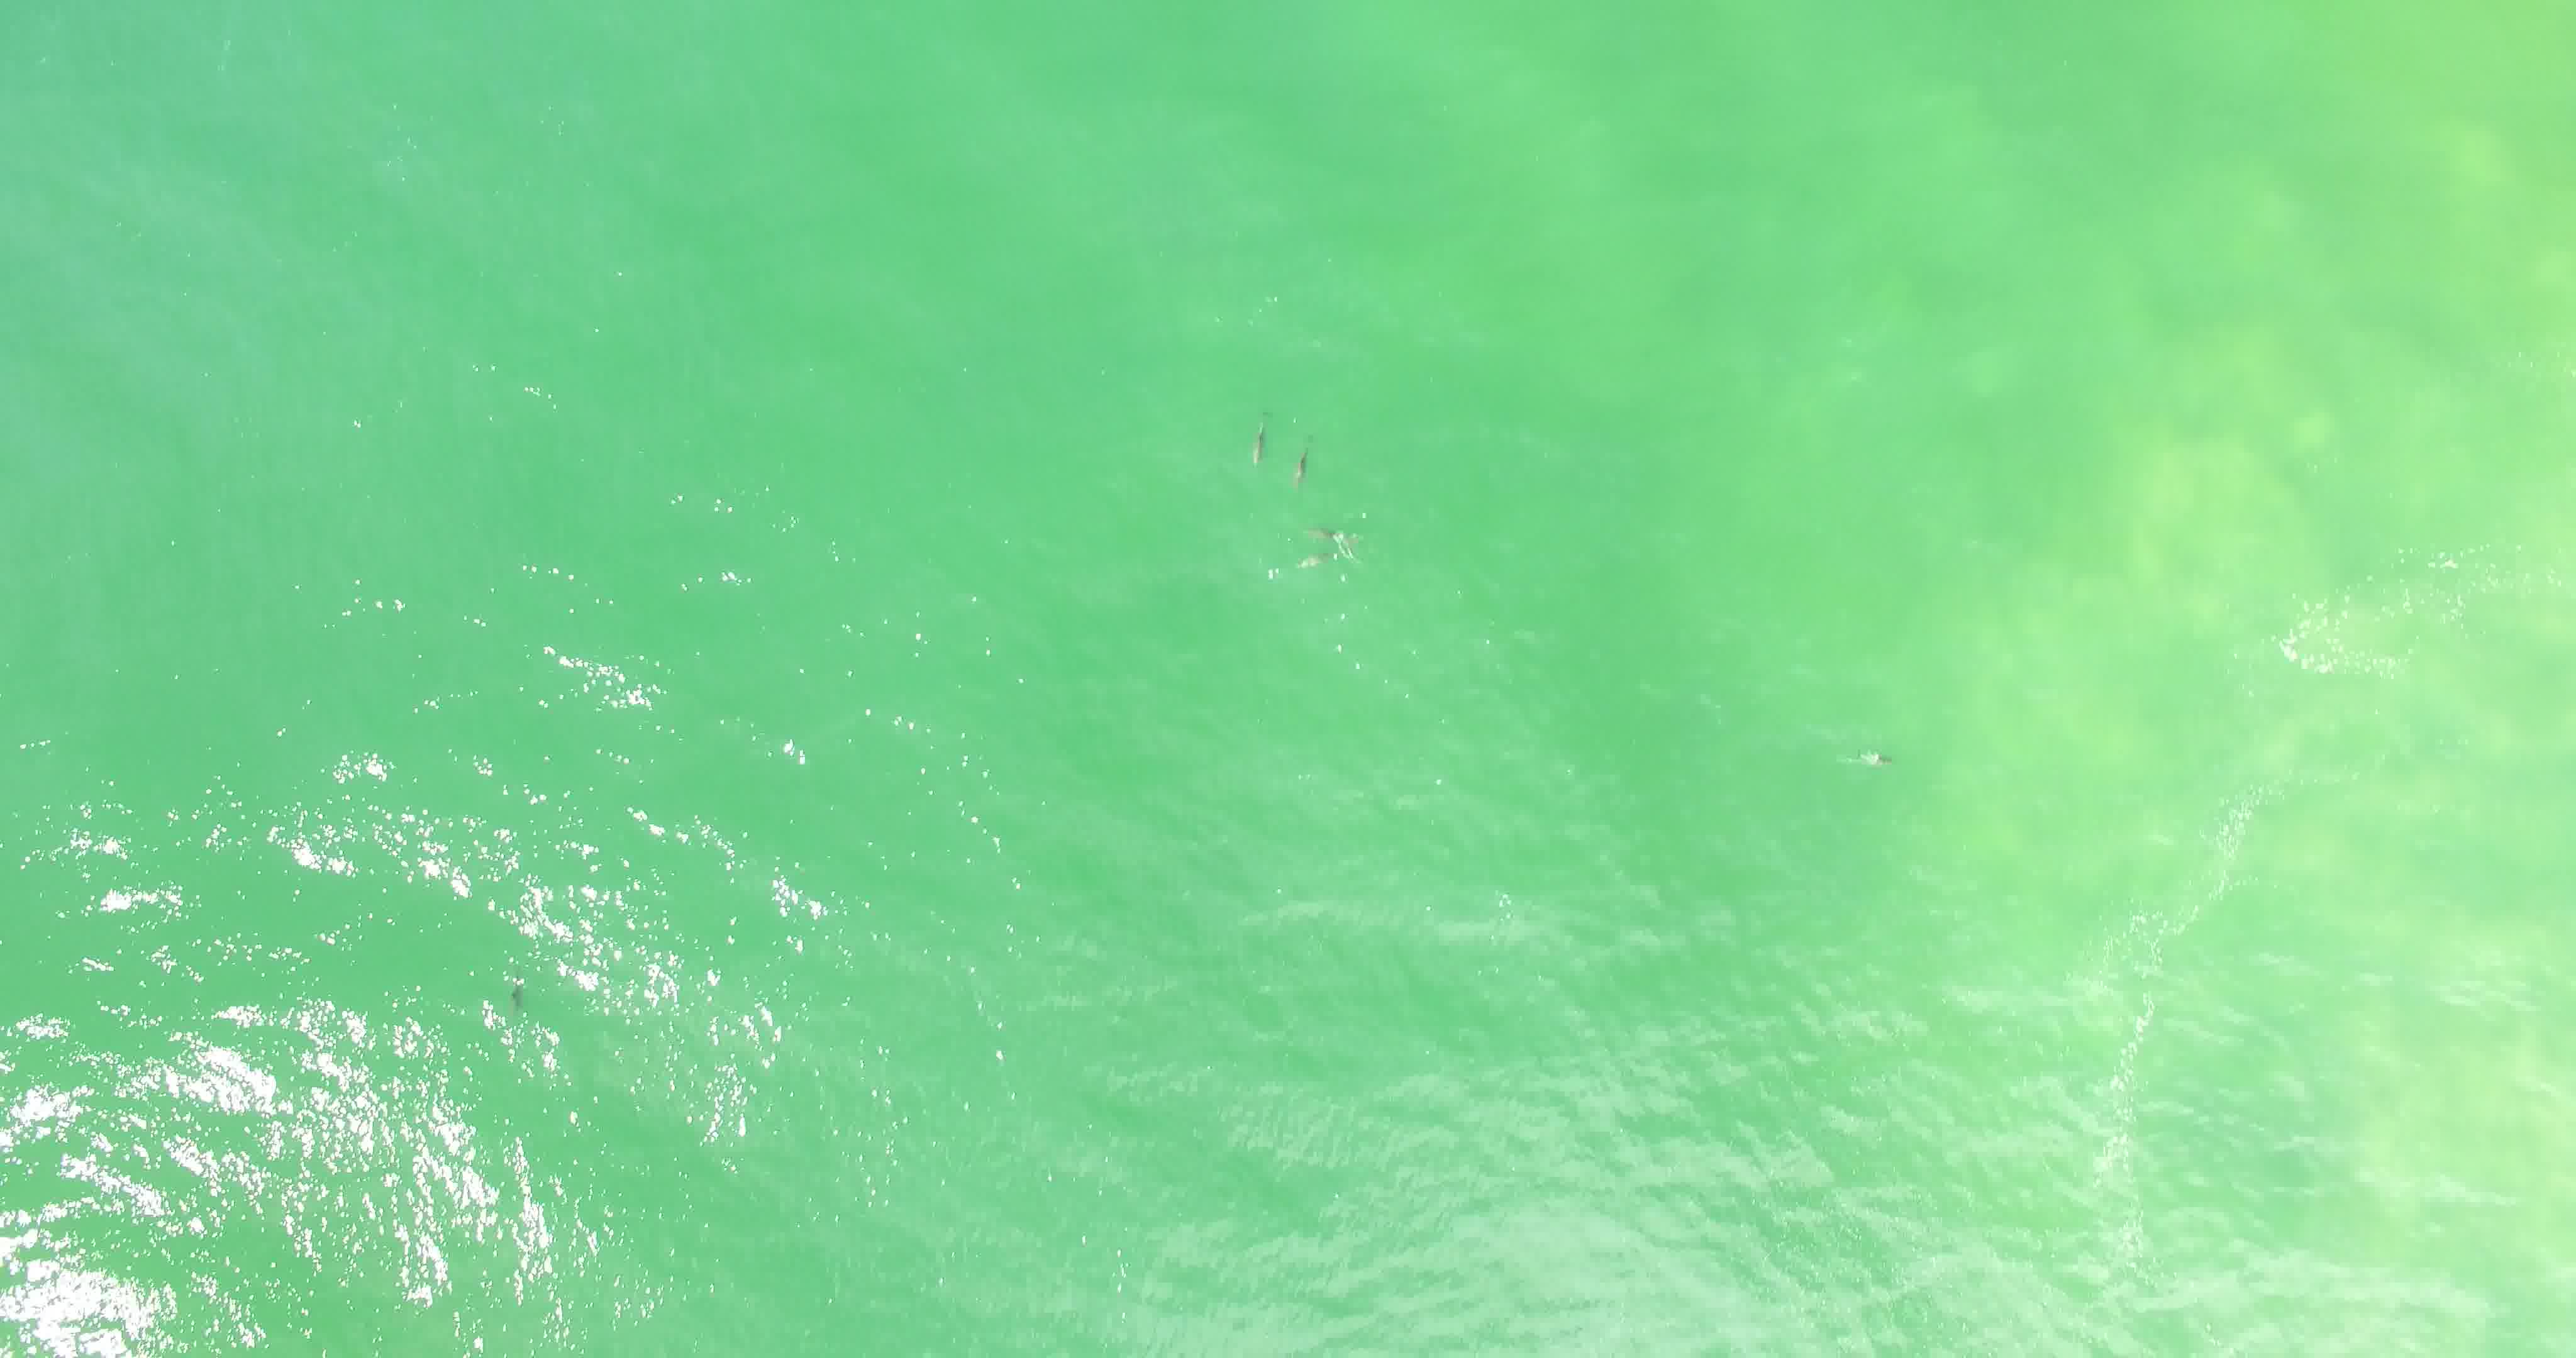dolphin: (1283, 494, 1360, 555), (1276, 406, 1324, 496), (1230, 392, 1281, 472), (1837, 719, 1901, 775)
